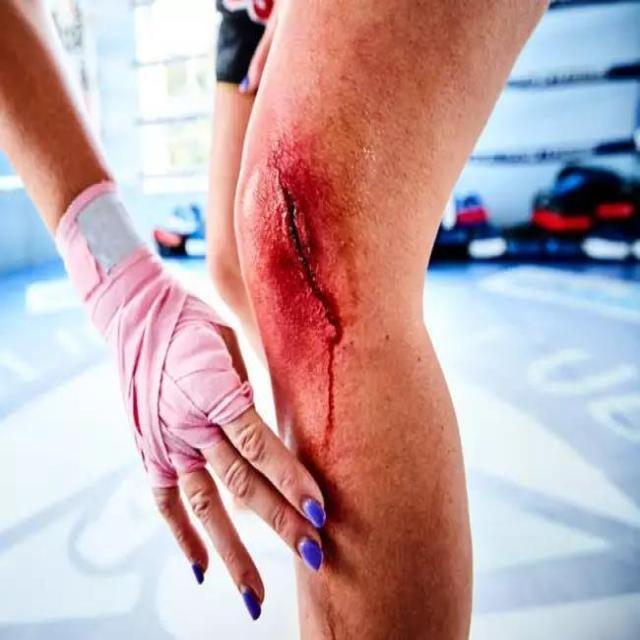flood: (254, 160, 364, 488)
